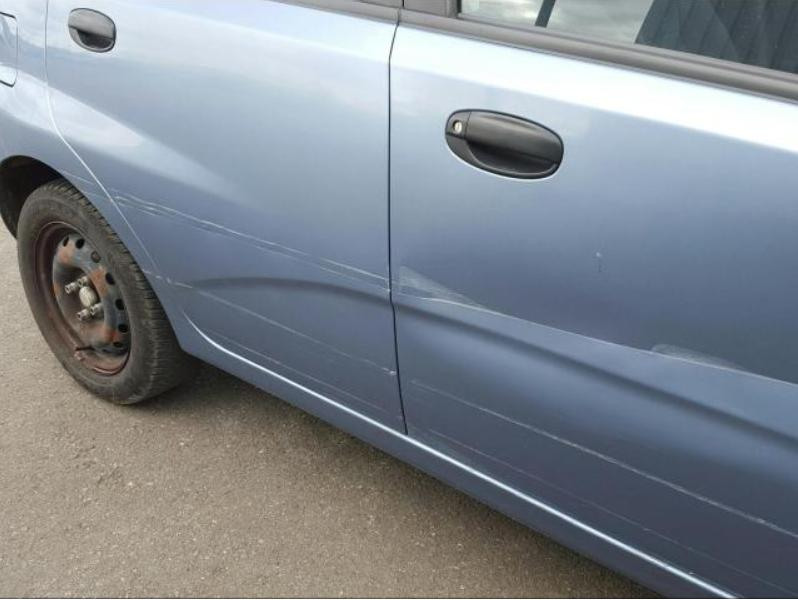Back-door: (46, 1, 405, 440)
Back-wheel: (18, 175, 192, 405)
Front-door: (389, 0, 797, 596)
Front-window: (461, 2, 798, 74)
Quarter-panel: (0, 2, 203, 337)
Rocker-panel: (170, 321, 732, 597)
